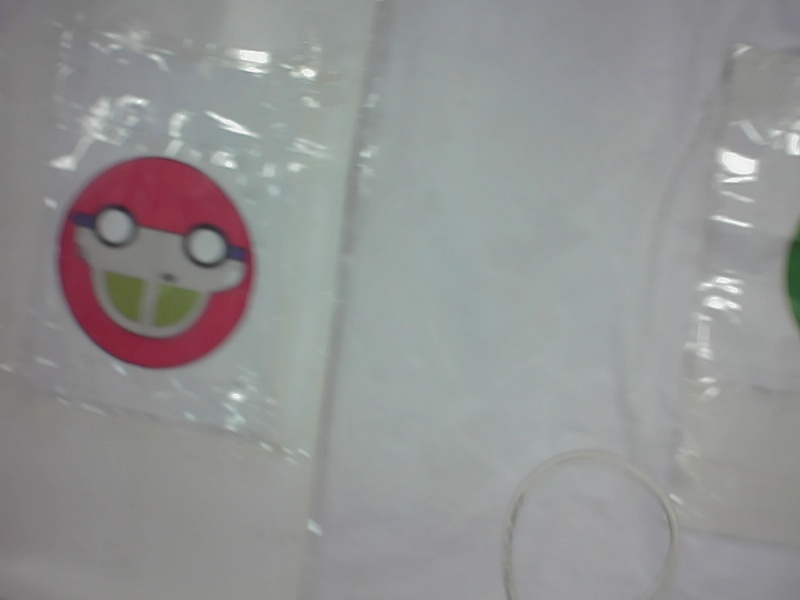areaC: (49, 146, 281, 379)
